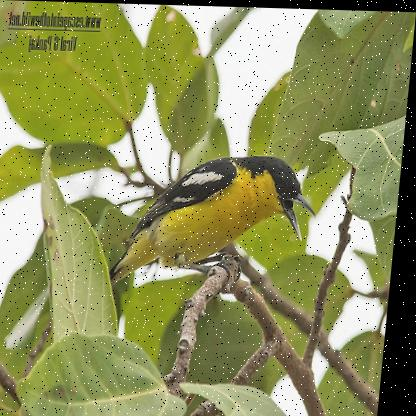Burung: (114, 151, 325, 285)
